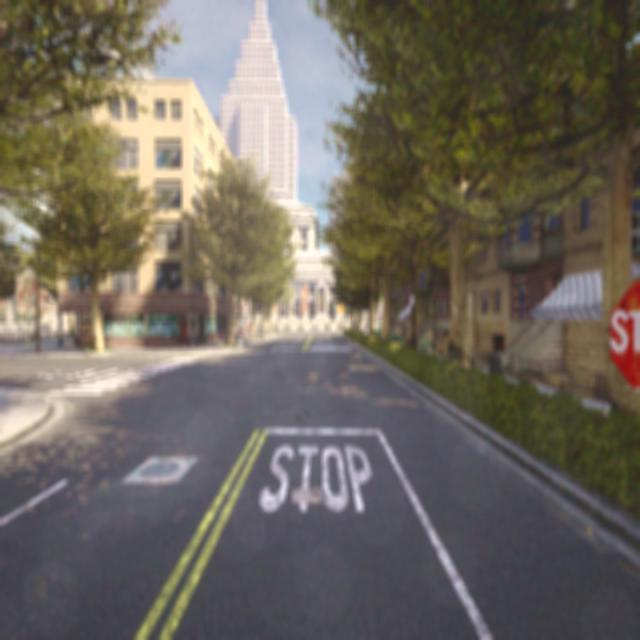stop sign: (604, 268, 639, 394), (608, 306, 639, 357)
